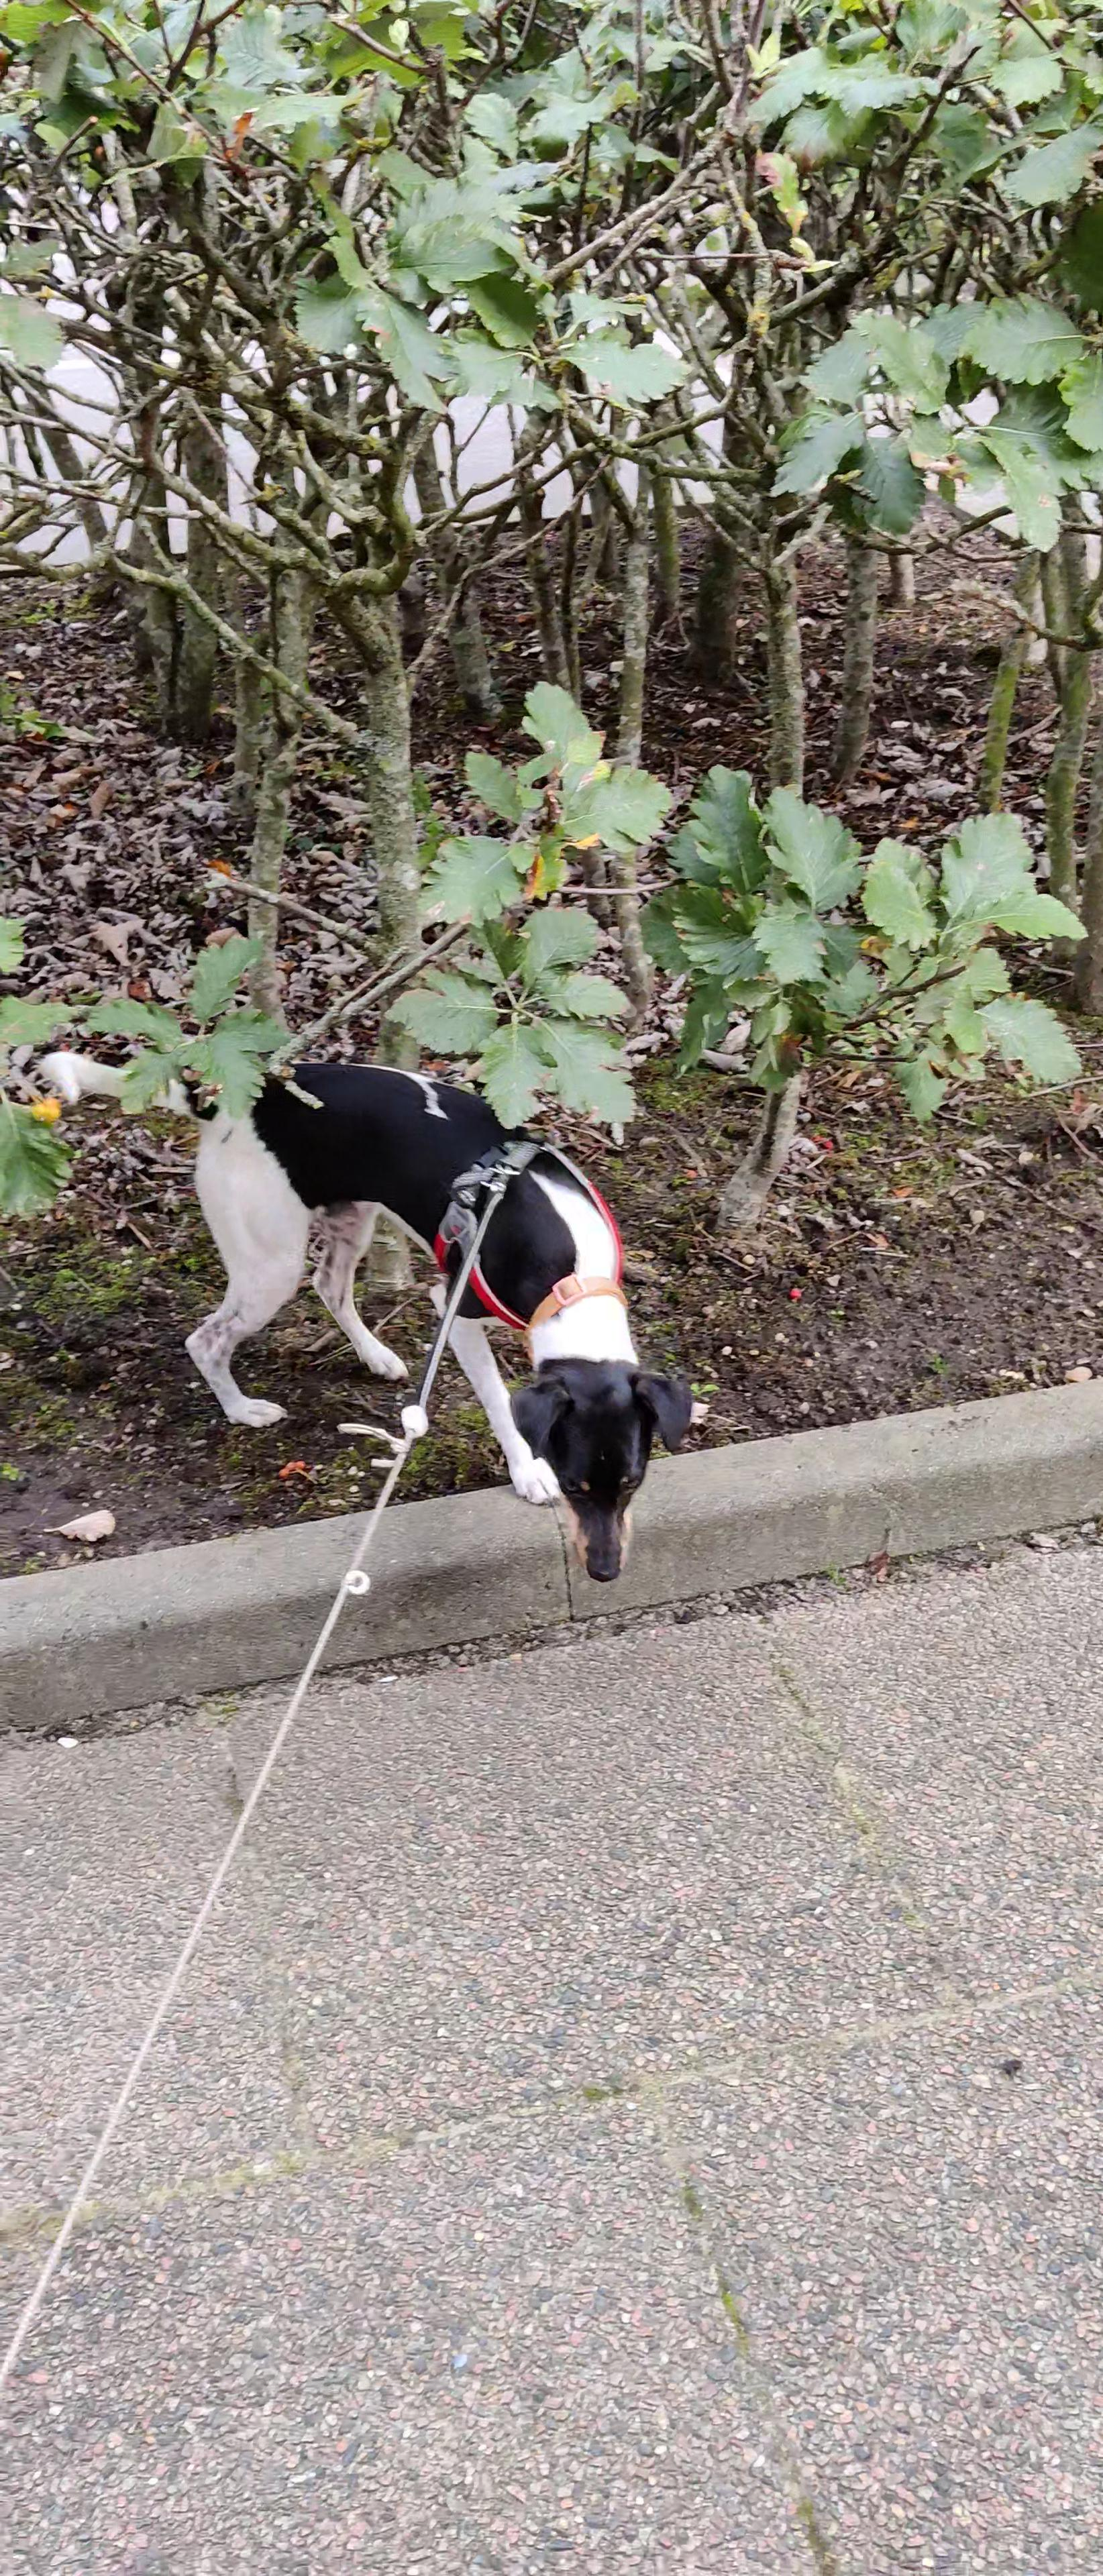Dog: (28, 1033, 702, 1607)
